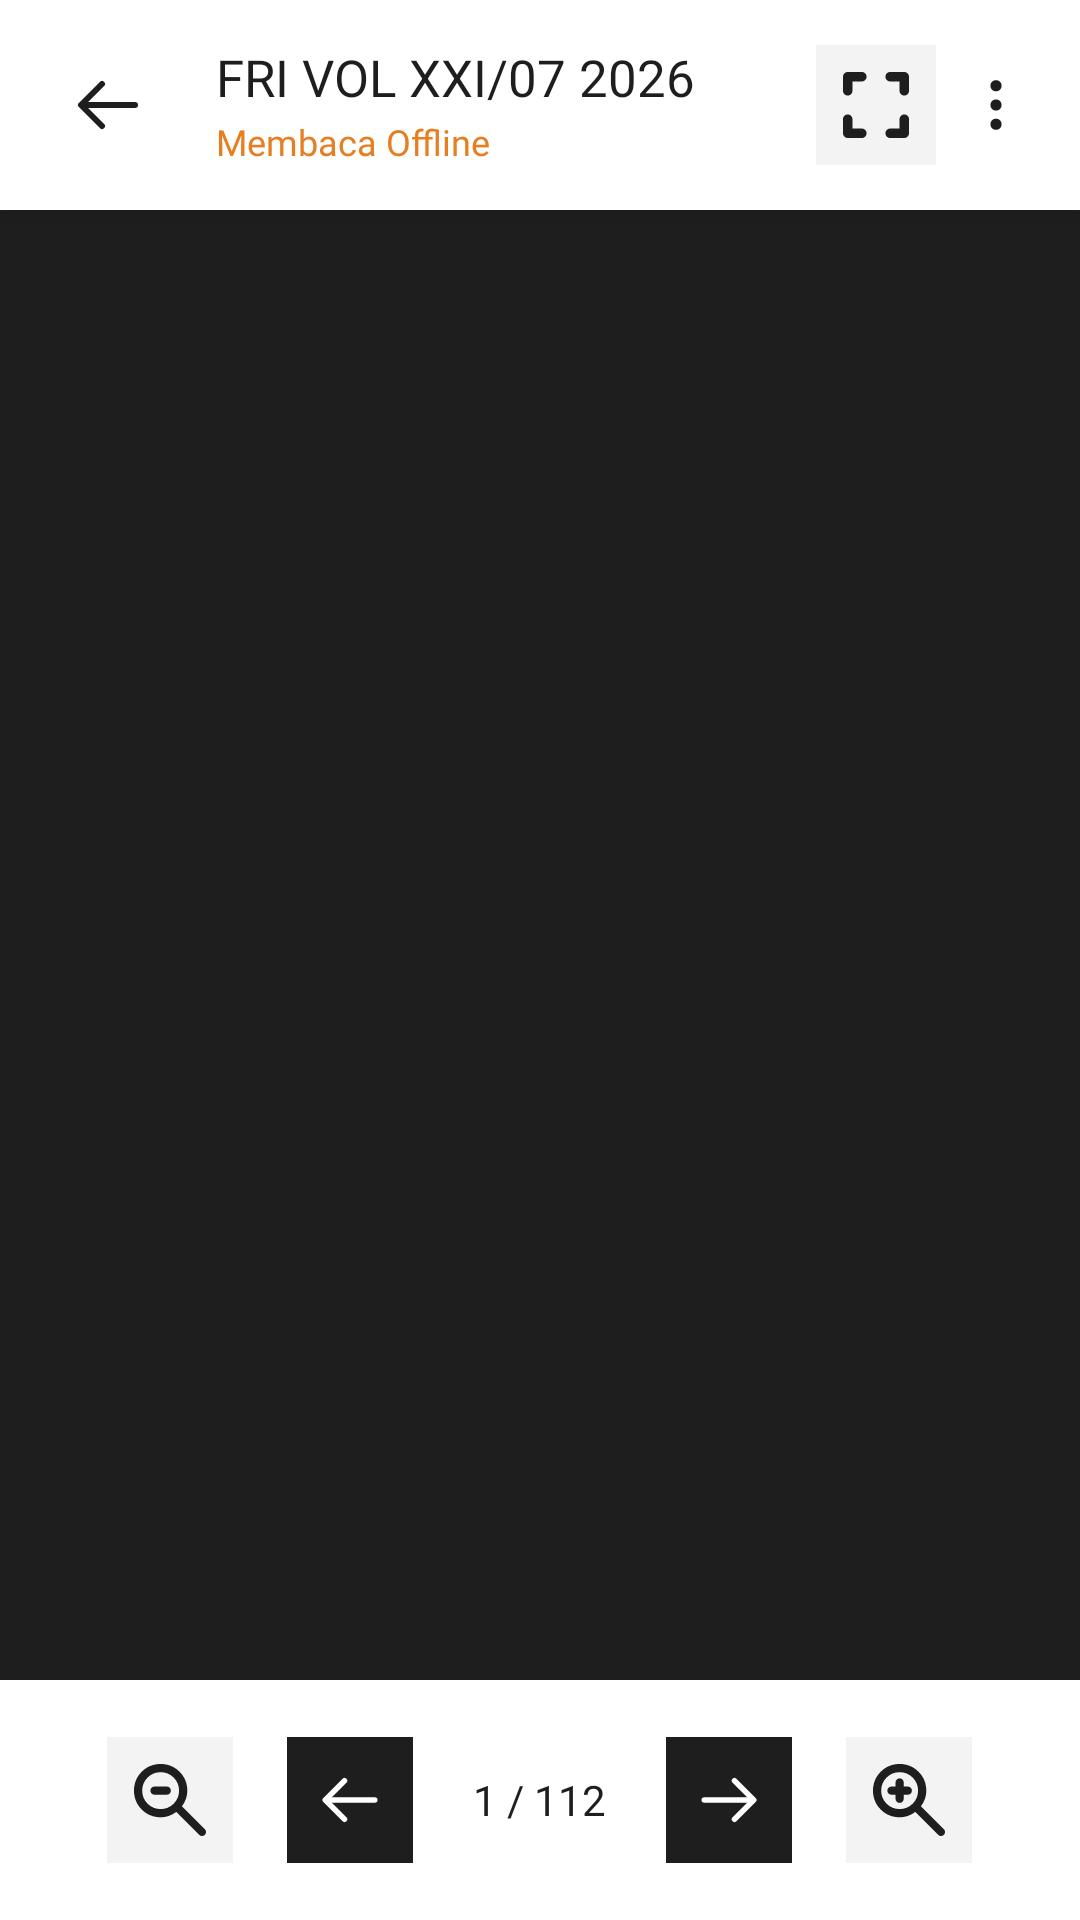

Icons on this 1080w x 1920h Android screen, each with the point to tap as (x,y):
Fullscreen: (876,105)
Halaman berikutnya: (729,1800)
Halaman sebelumnya: (350,1800)
Kembali: (108,105)
Options: (996,105)
Zoom in: (909,1800)
Zoom out: (170,1800)
